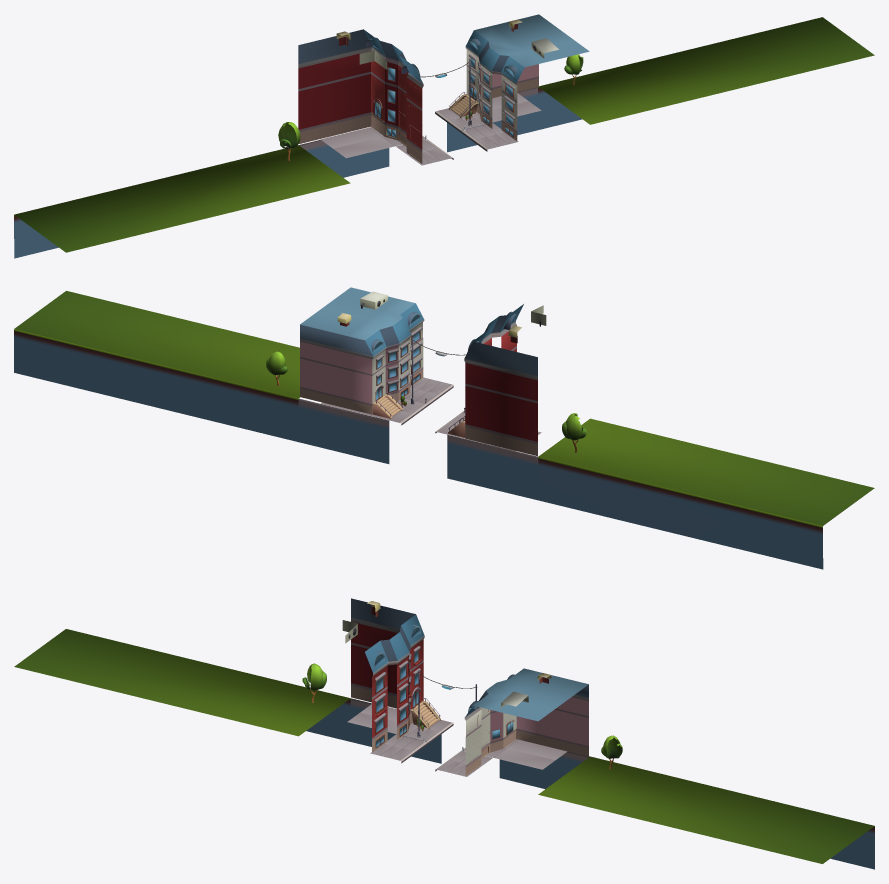
File: Tom1_CityResidentalSet01_10.fbx
3 renders of one model, top to bottom at view 1: azimuth 30°, elevation 25°; view 2: azimuth 150°, elevation 25°; view 3: azimuth 330°, elevation 25°, orthographic.
Parts seen in each view (by area): view 1: Tom1_CityResidentalSet01_10; view 2: Tom1_CityResidentalSet01_10; view 3: Tom1_CityResidentalSet01_10.
Part boxes in pixels (bbox=[...]): Tom1_CityResidentalSet01_10: bbox=[14, 14, 874, 258]; Tom1_CityResidentalSet01_10: bbox=[14, 287, 874, 569]; Tom1_CityResidentalSet01_10: bbox=[14, 598, 874, 869].
Size of the model in its own units: 8921 by 1642 by 1001.
